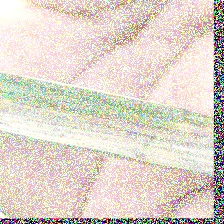Leaf_Blast: (0, 105, 182, 156)
